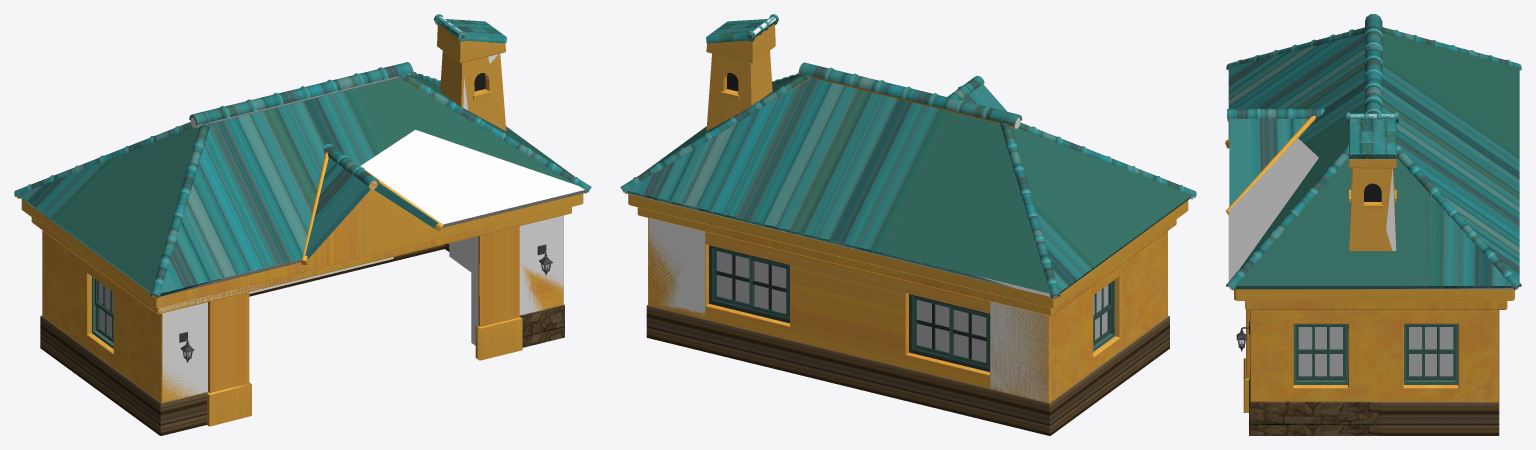
File: objects_un_t03shop01.gltf
The picture shows the model from 3 angles, left to right: view 1: azimuth 30°, elevation 25°; view 2: azimuth 150°, elevation 25°; view 3: azimuth 270°, elevation 25°; orthographic projection. The views are drawn at different scales.
Visible parts, largest first — view 1: nomerge_wall_01_shape:objects_un_t03shop01_roof01_01, nomerge_wall_01_shape:objects_un_t03shop01_wall01_01, um_objects_un_t03shop01_model_lod0Shape:objects_un_t03shop01 (×2); view 2: nomerge_wall_01_shape:objects_un_t03shop01_roof01_01, nomerge_wall_01_shape:objects_un_t03shop01_wall01_01, um_objects_un_t03shop01_model_lod0Shape:objects_un_t03shop01 (×2), nomerge_inside_mesh_shape:objects_un_behind, um_objects_un_t03shop01_model_lod0Shape:objects_un_t02house0; view 3: nomerge_wall_01_shape:objects_un_t03shop01_roof01_01, nomerge_wall_01_shape:objects_un_t03shop01_wall01_01, um_objects_un_t03shop01_model_lod0Shape:objects_un_t03shop01 (×2), nomerge_inside_mesh_shape:objects_un_behind, um_objects_un_t03shop01_model_lod0Shape:objects_un_t02house0, nomerge_wall_01_shape:objects_un_t03shop01_01.
Part boxes in pixels (x1,y1,x2,y2): nomerge_wall_01_shape:objects_un_t03shop01_roof01_01: (14, 14, 591, 297); nomerge_wall_01_shape:objects_un_t03shop01_wall01_01: (17, 24, 585, 435); um_objects_un_t03shop01_model_lod0Shape:objects_un_t03shop01 (×2): (92, 16, 586, 399); nomerge_wall_01_shape:objects_un_t03shop01_roof01_01: (620, 14, 1196, 297); nomerge_wall_01_shape:objects_un_t03shop01_wall01_01: (625, 23, 1188, 435); um_objects_un_t03shop01_model_lod0Shape:objects_un_t03shop01 (×2): (627, 17, 1193, 402); nomerge_inside_mesh_shape:objects_un_behind: (717, 251, 1108, 362); um_objects_un_t03shop01_model_lod0Shape:objects_un_t02house0: (717, 251, 1108, 361); nomerge_wall_01_shape:objects_un_t03shop01_roof01_01: (1226, 14, 1521, 289); nomerge_wall_01_shape:objects_un_t03shop01_wall01_01: (1225, 69, 1519, 435); um_objects_un_t03shop01_model_lod0Shape:objects_un_t03shop01 (×2): (1228, 114, 1518, 401); nomerge_inside_mesh_shape:objects_un_behind: (1298, 327, 1453, 376); um_objects_un_t03shop01_model_lod0Shape:objects_un_t02house0: (1299, 327, 1452, 375); nomerge_wall_01_shape:objects_un_t03shop01_01: (1364, 183, 1381, 201).
Size of what is drawn, in the model's own units: 12.52 by 7.72 by 7.03.
Materials: 9 (7 with a texture image).
